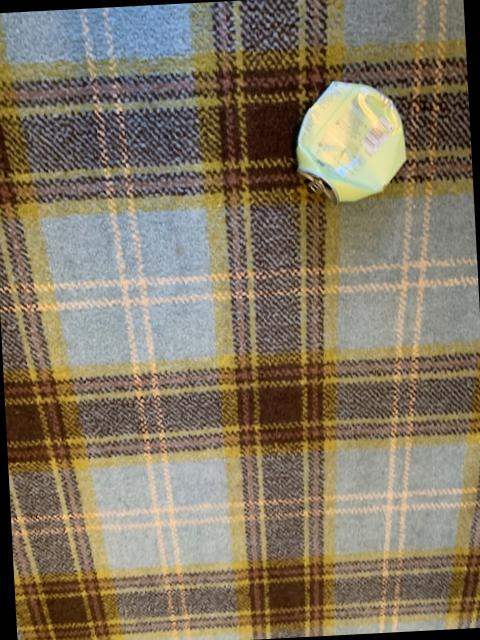metal: (297, 79, 406, 199)
